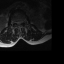CCS_normal: (18, 19, 19, 26)
LFS_stenosis: (21, 20, 23, 24)
LLS_normal: (19, 20, 21, 25)
RFS_stenosis: (14, 20, 16, 25)
RLS_normal: (16, 20, 18, 25)
